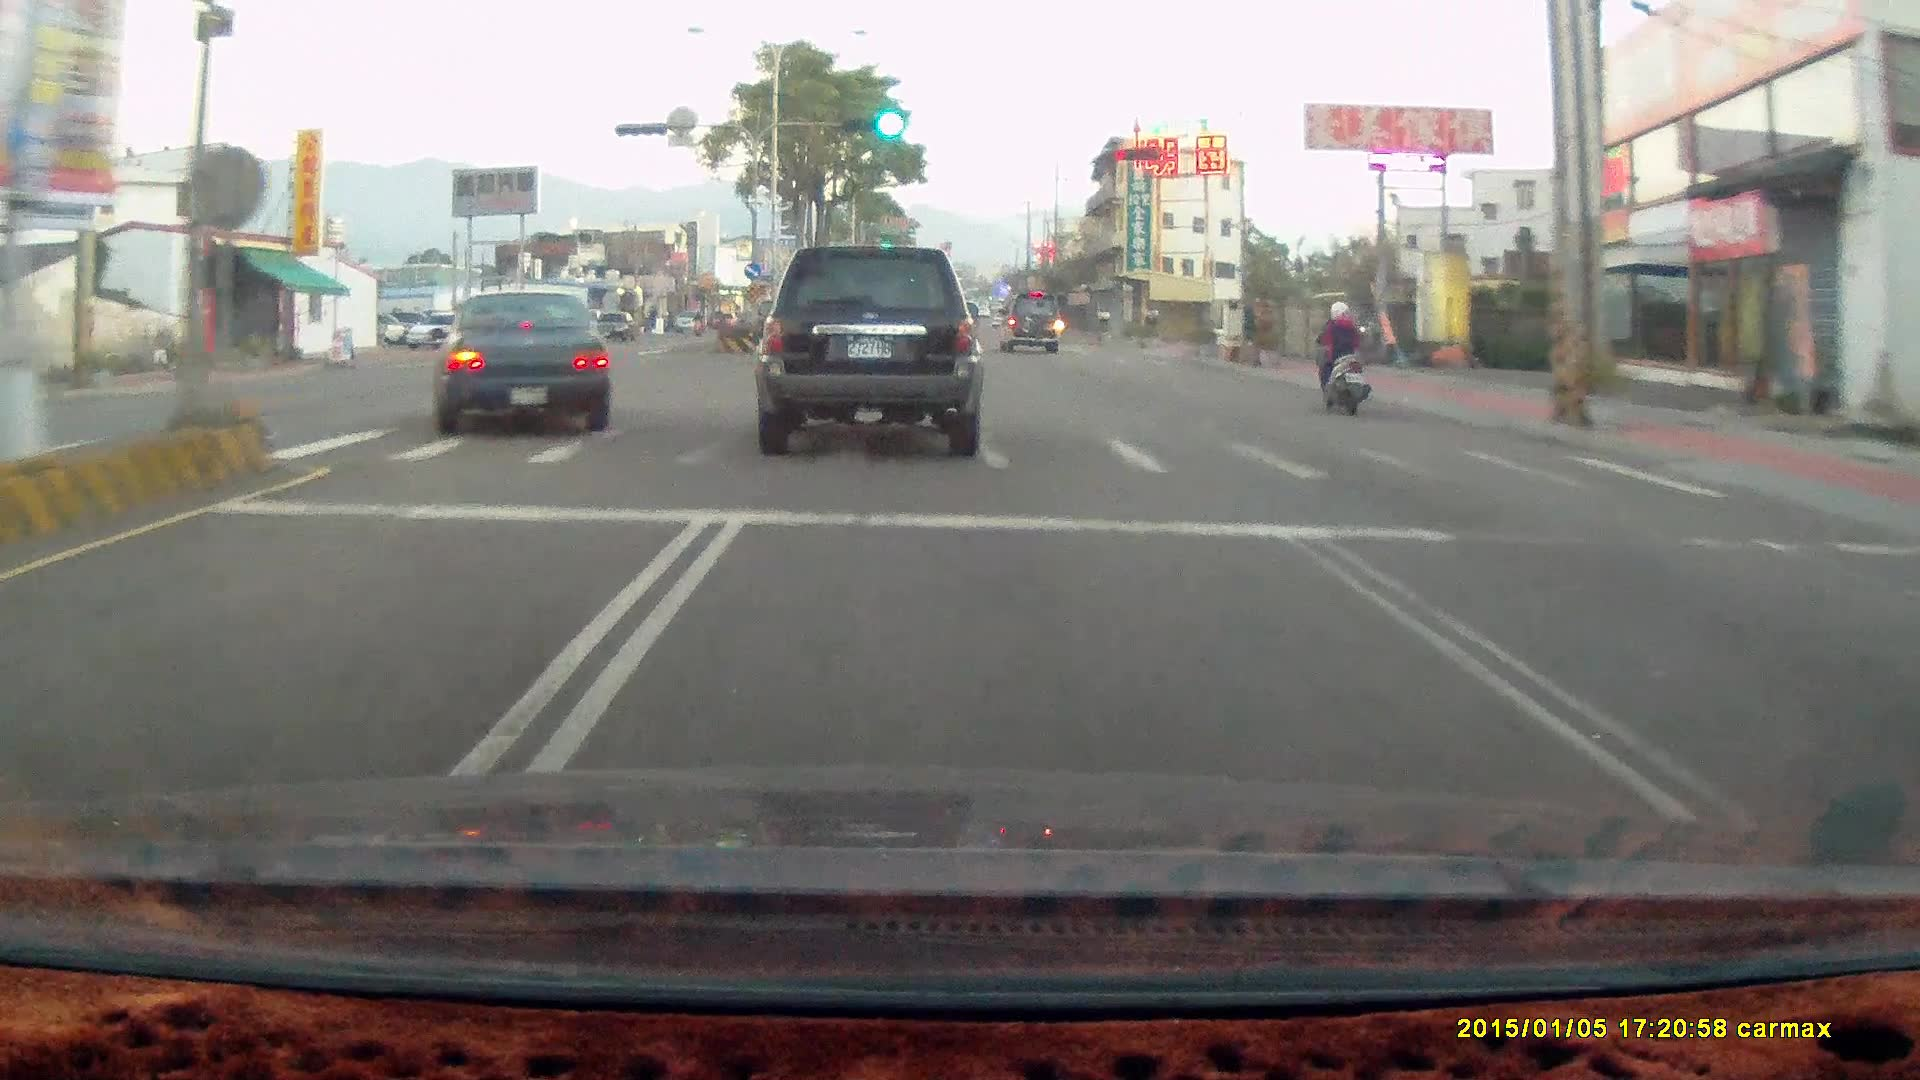rider: (1301, 290, 1383, 425), (1309, 296, 1370, 414)
vehicle: (753, 242, 985, 462), (752, 242, 983, 454), (429, 281, 610, 432), (427, 284, 609, 431), (997, 287, 1065, 354), (996, 279, 1060, 341), (404, 312, 480, 350), (586, 308, 636, 341)
